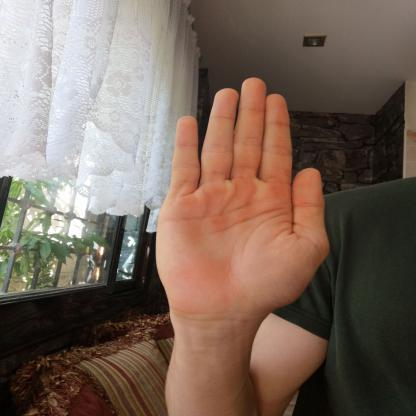SEEN: (137, 65, 341, 326)
